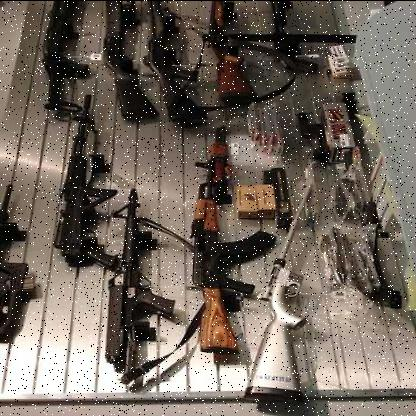rifle: (173, 116, 273, 368), (243, 171, 337, 405), (95, 168, 173, 380), (50, 86, 123, 286), (20, 0, 99, 110), (140, 1, 205, 131), (97, 1, 159, 123), (204, 1, 242, 105)
